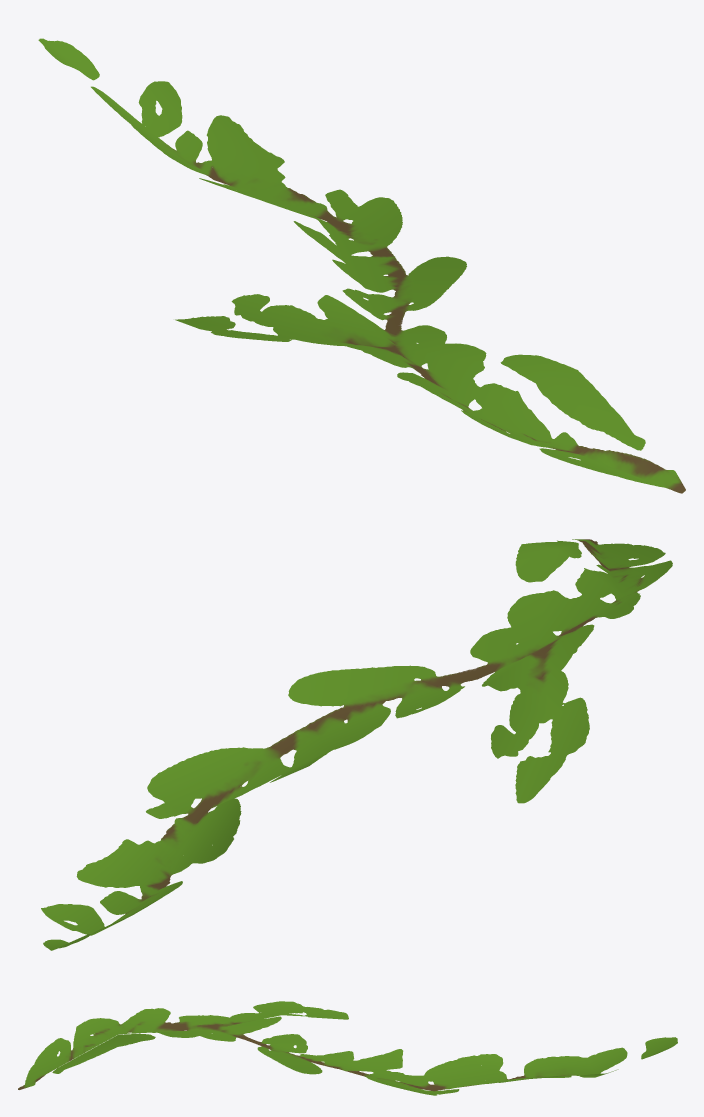
File: mesh_vine_4.fbx
3 renders of one model, top to bottom at view 1: azimuth 30°, elevation 25°; view 2: azimuth 150°, elevation 25°; view 3: azimuth 270°, elevation 25°, orthographic. The views are drawn at different scales.
Parts seen in each view (by area): view 1: mesh_vine_4; view 2: mesh_vine_4; view 3: mesh_vine_4.
Part boxes in pixels (x1,y1,x2,y2): mesh_vine_4: (38,38,685,493); mesh_vine_4: (41,539,672,950); mesh_vine_4: (18,1001,677,1095).
Bounding box in the file's own units: 12.47 × 2.55 × 37.3.
Materials: 1 (1 with a texture image).
